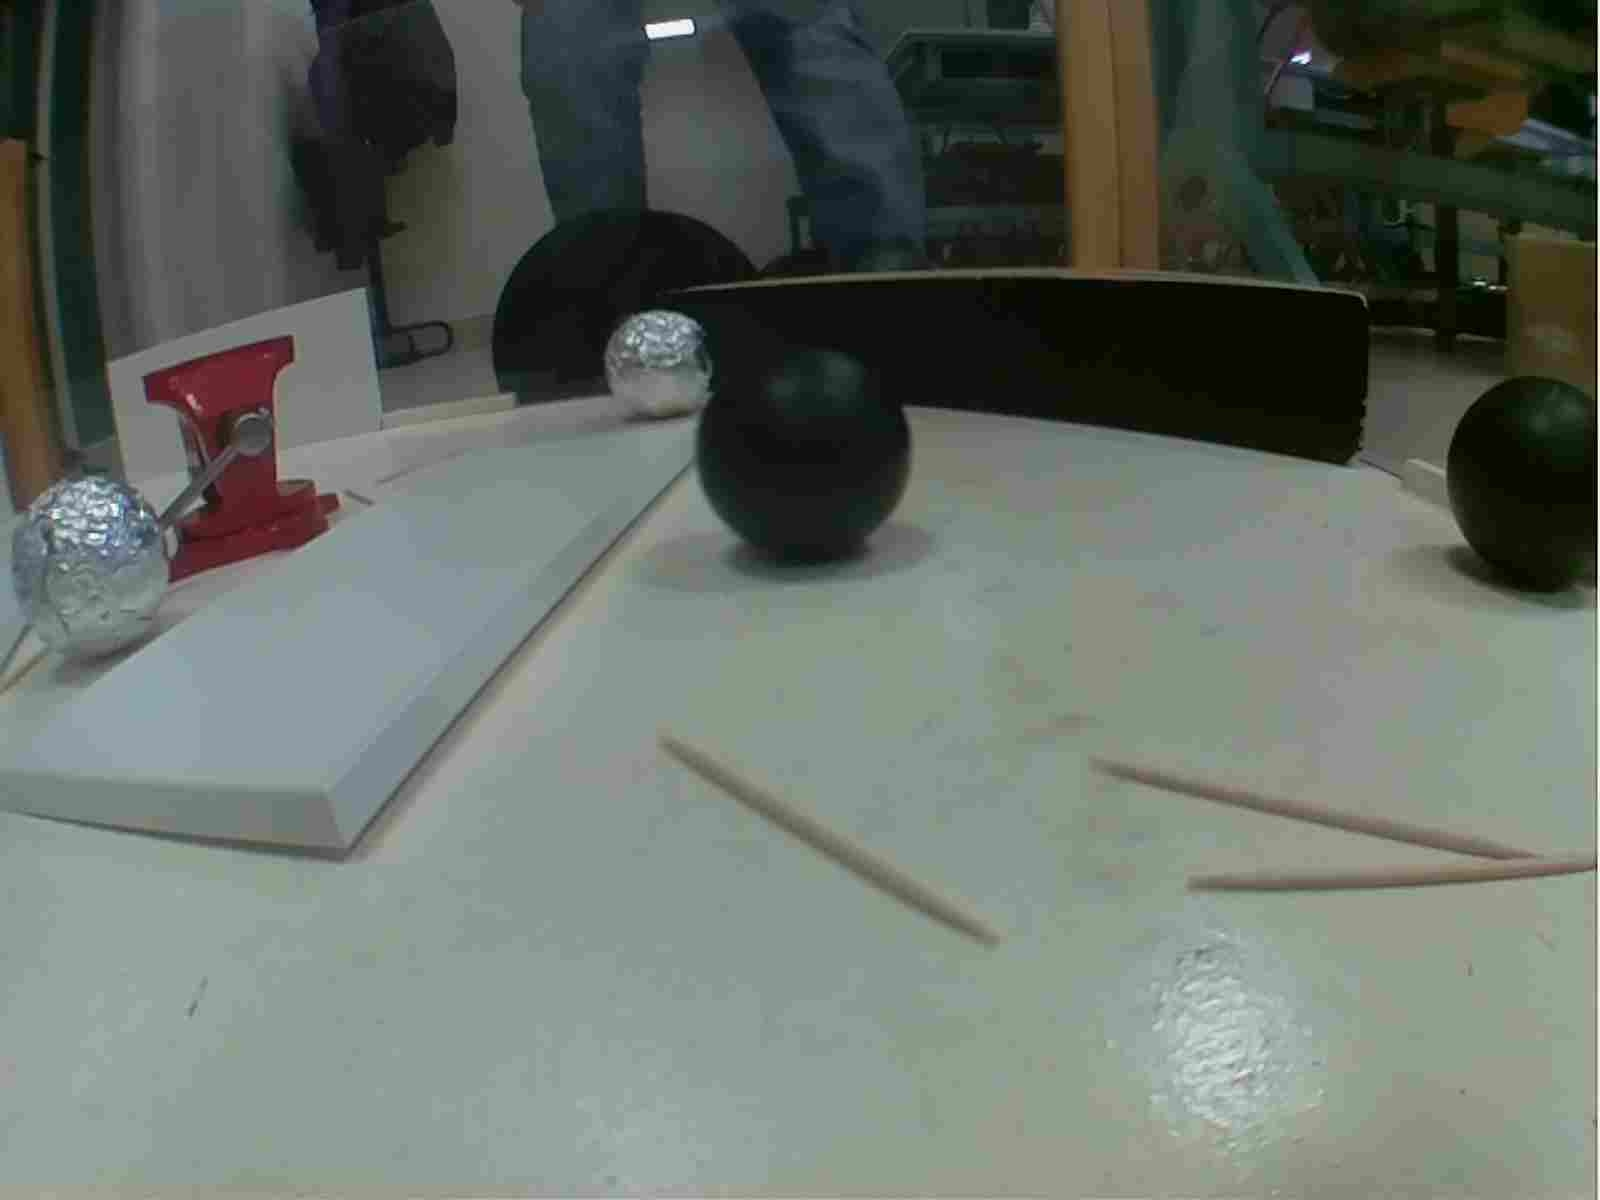bianca: (15, 469, 168, 668), (601, 309, 713, 420)
nera: (690, 345, 918, 568), (1439, 372, 1600, 596)
